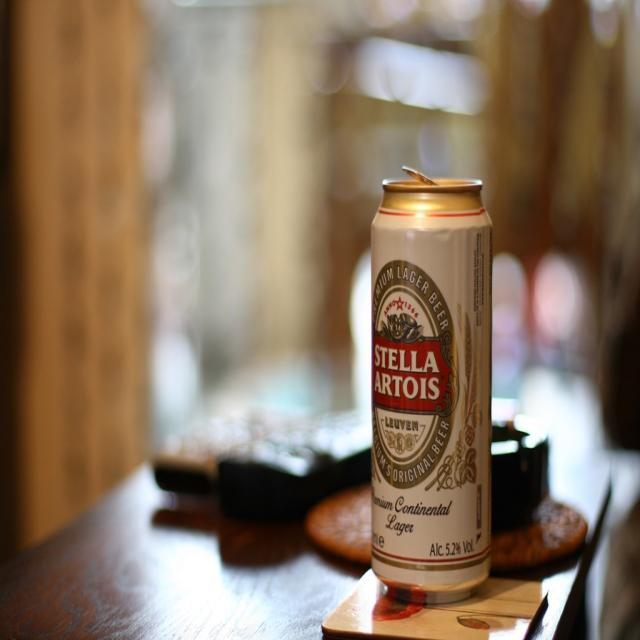stellaartois: (372, 260, 462, 491)
